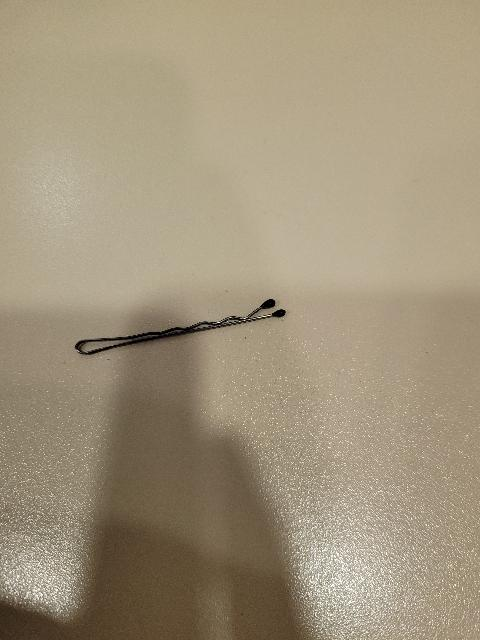Metal: (71, 296, 294, 357)
